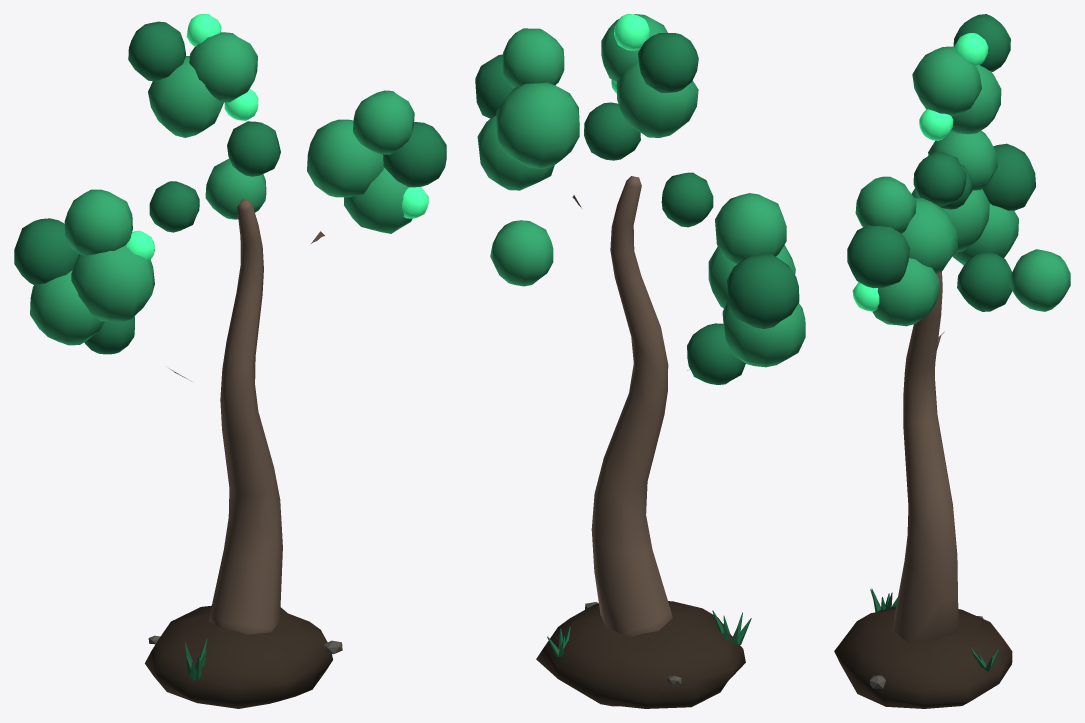
Rendered from garden-young.glb.
The picture shows the model from 3 angles, left to right: view 1: azimuth 30°, elevation 25°; view 2: azimuth 150°, elevation 25°; view 3: azimuth 270°, elevation 25°; orthographic projection. The views are drawn at different scales.
Parts seen in each view (by area): view 1: garden-young; view 2: garden-young; view 3: garden-young.
Boxes of the visible parts, x1=… form: garden-young: x1=14, y1=14, x2=446, y2=708; garden-young: x1=475, y1=14, x2=805, y2=708; garden-young: x1=834, y1=14, x2=1070, y2=708.
Bounding box in the file's own units: 1.06 × 1.86 × 0.6105.
